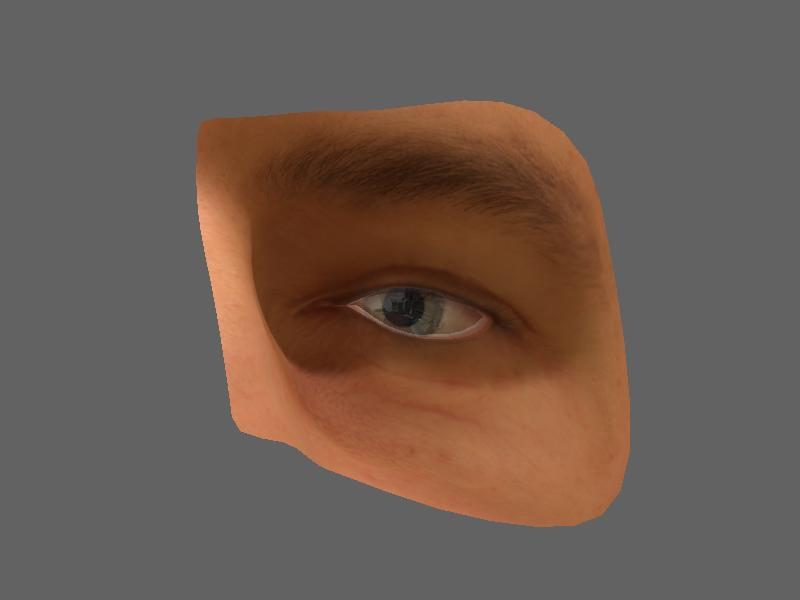iris: (362, 285, 451, 332)
